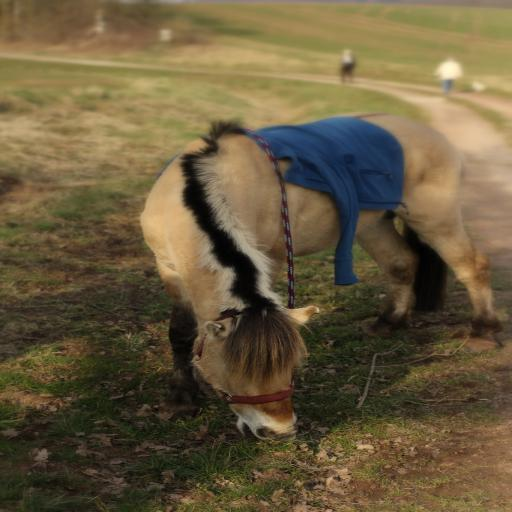horse: (136, 110, 504, 444)
